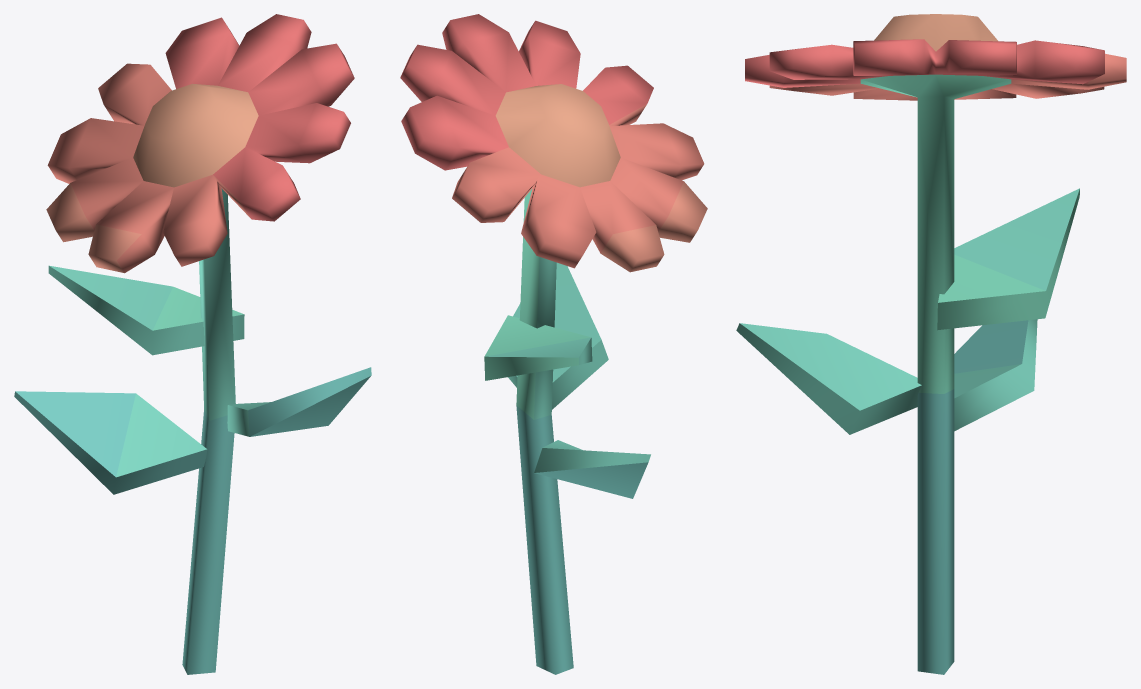
Rendered from wild_flower_red.glb.
3 renders of one model, left to right at view 1: azimuth 30°, elevation 25°; view 2: azimuth 150°, elevation 25°; view 3: azimuth 270°, elevation 25°, orthographic. The views are drawn at different scales.
Visible parts, largest first — view 1: Wild_Flower_Red.001; view 2: Wild_Flower_Red.001; view 3: Wild_Flower_Red.001.
Boxes of the visible parts, x1,y1,x2,y2 form: Wild_Flower_Red.001: (14,14,371,674); Wild_Flower_Red.001: (400,14,707,674); Wild_Flower_Red.001: (736,14,1126,674).
Size of the model in its own units: 0.2174 by 0.4676 by 0.2394.
